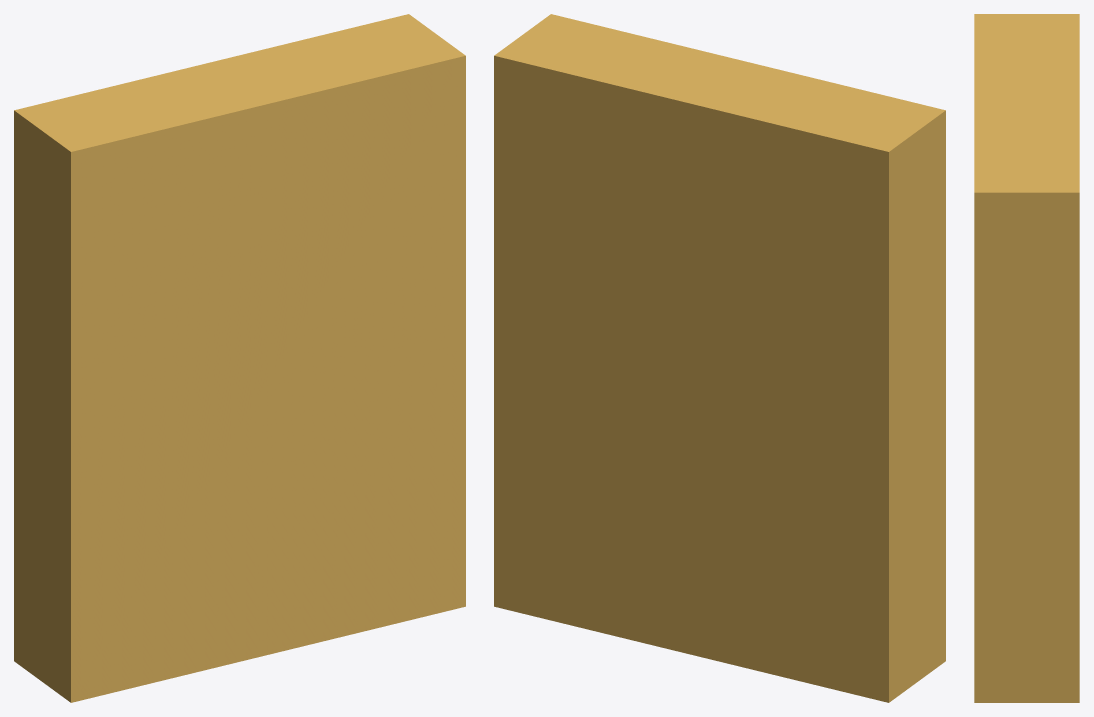
The model's file is shield-steel.glb.
3 renders of one model, left to right at view 1: azimuth 30°, elevation 25°; view 2: azimuth 150°, elevation 25°; view 3: azimuth 270°, elevation 25°, orthographic. The views are drawn at different scales.
Visible parts, largest first — view 1: root; view 2: root; view 3: root.
Boxes of the visible parts, x1,y1,x2,y2 form: root: (14, 14, 465, 702); root: (494, 14, 945, 702); root: (974, 14, 1079, 702).
Bounding box in the file's own units: 0.6 × 0.8 × 0.15.
1 material, 1 textured.
